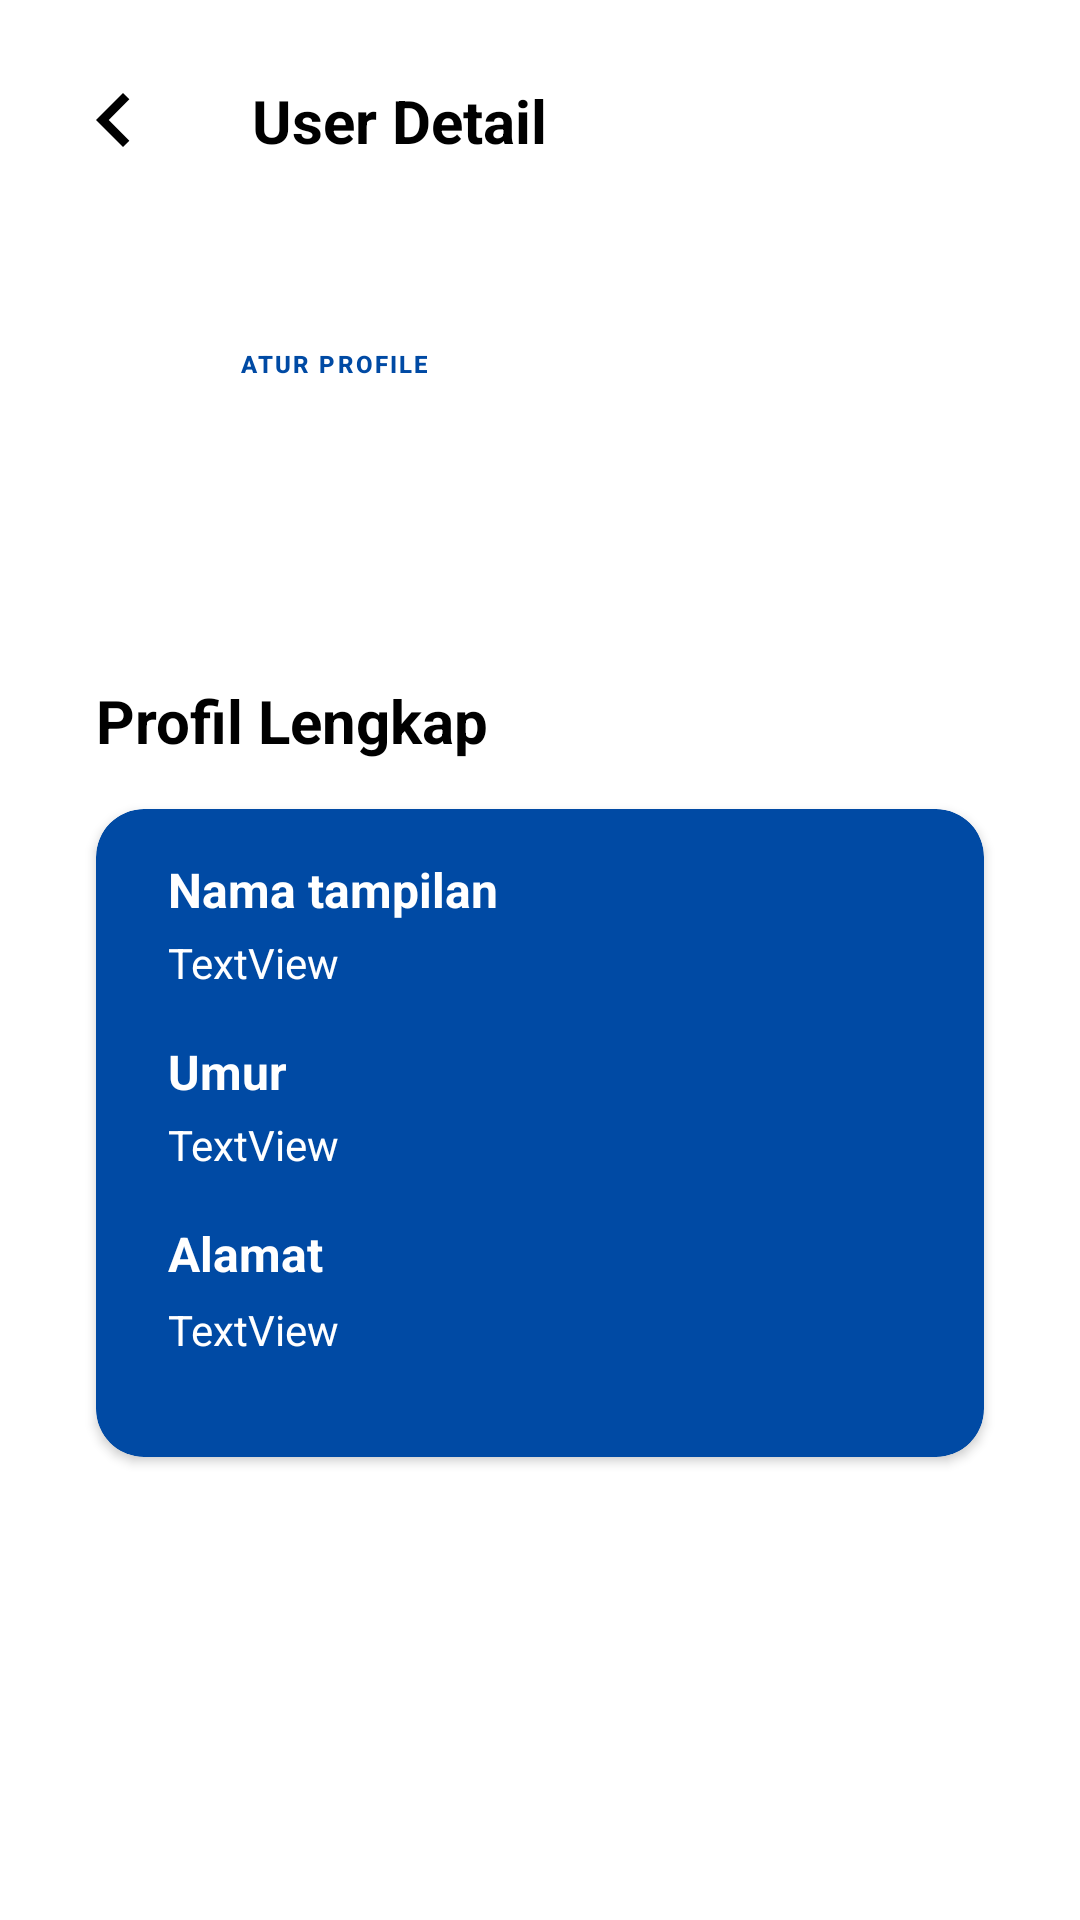

Locate icon controls on the screen. Image size 1080px×1920px, boxes as (x1, y1, x2, y2).
chevron left: (96, 93, 130, 147)
